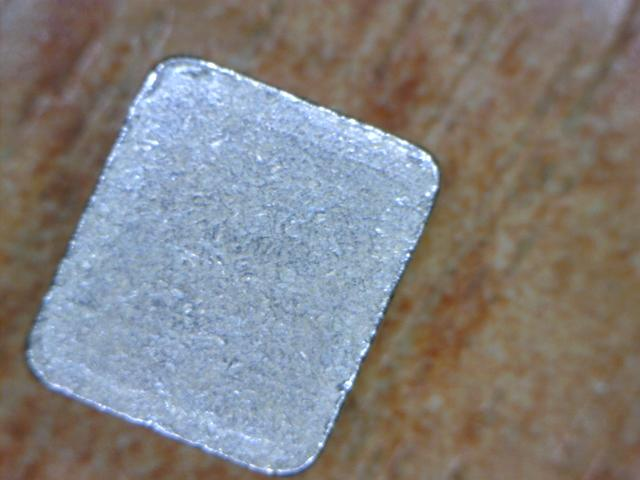ok: (17, 49, 435, 477)
